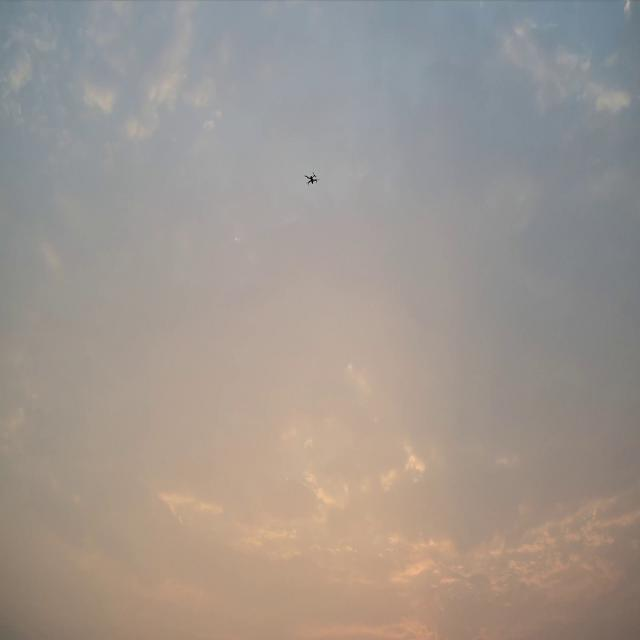drone: (304, 172, 320, 186)
